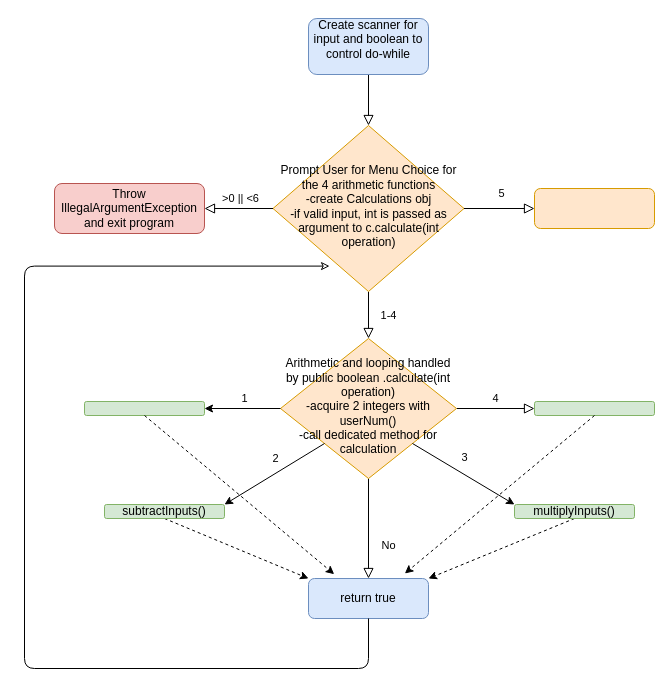
This 672x694 diagram has some shape labels left out. Each missing label, with the centre of its shape:
"addInputs()" goes at point 144,408.
"break and exit program" goes at point 594,208.
"divideInputs()" goes at point 594,408.
